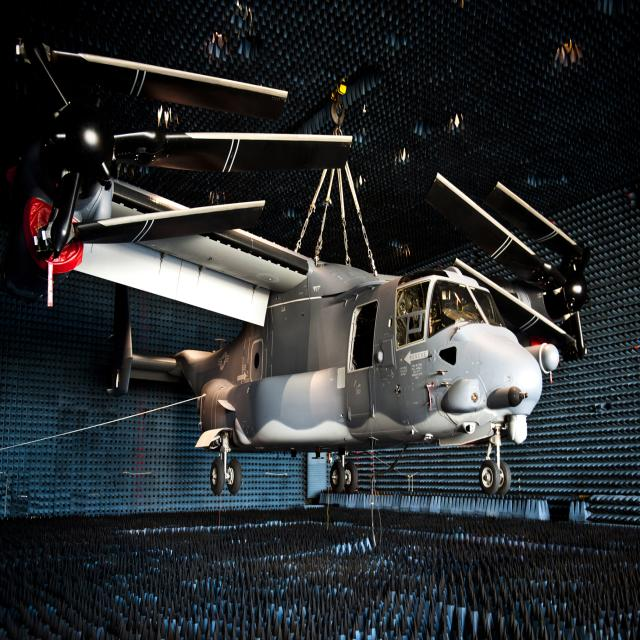MIL_Plane: (1, 35, 590, 495)
